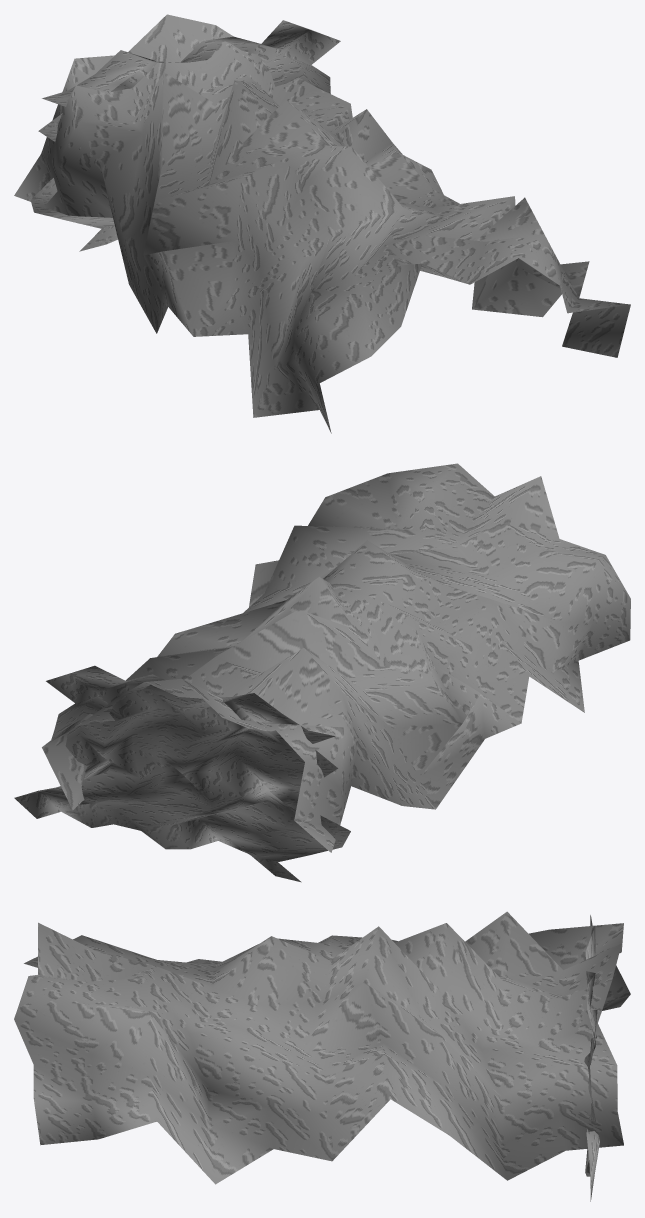
File: grotte.FBX
3 views of the same model, one above another, from view 1: azimuth 30°, elevation 25°; view 2: azimuth 150°, elevation 25°; view 3: azimuth 270°, elevation 25° (orthographic). The views are drawn at different scales.
Parts seen in each view (by area): view 1: Plane001, Plane002; view 2: Plane001, Plane002; view 3: Plane001, Plane002.
Part boxes in pixels (x1=…): Plane001: x1=14, y1=14, x2=630, y2=433; Plane002: x1=30, y1=20, x2=340, y2=251; Plane001: x1=42, y1=463, x2=630, y2=852; Plane002: x1=14, y1=665, x2=350, y2=882; Plane001: x1=14, y1=911, x2=630, y2=1184; Plane002: x1=584, y1=915, x2=599, y2=1201.
Size of the model in its own units: 84.23 by 47.79 by 136.
1 material, 1 textured.
